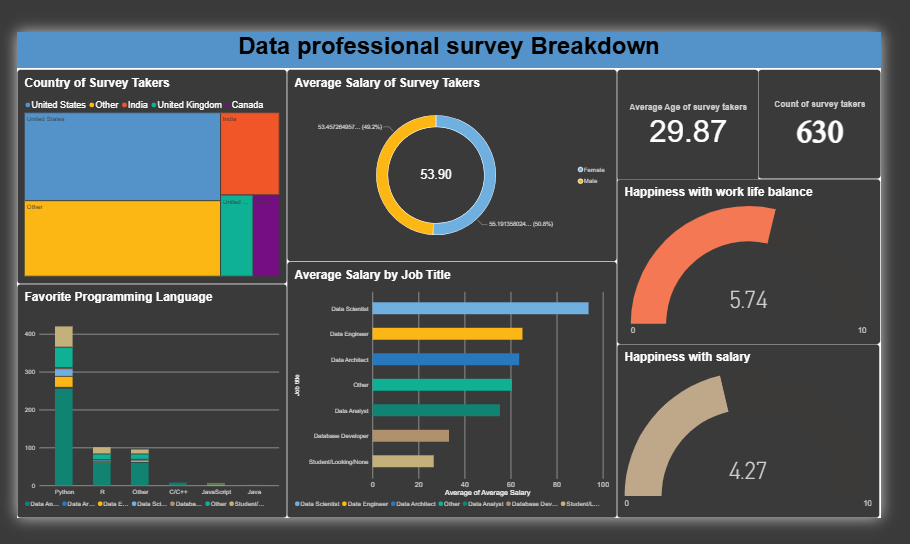

The page's visual inventory and layout, read from the dashboard file:
{"tool":"powerbi","page":{"name":"Page 1","canvas":[1920,1080],"ordinal":0},"visuals":[{"type":"textbox","box":[0,0,1920,80],"z":0},{"type":"cardVisual","fields":{"Data":["CountNonNull(Data Professional Survey.Unique ID)"]},"box":[1646.7,83.3,273.3,243.3],"z":1000},{"type":"cardVisual","fields":{"Data":["Avg(Data Professional Survey.Q10 - Current Age)"]},"box":[1332.5,82.5,315,250],"z":2000},{"type":"barChart","title":"Average Salary by Job Title","fields":{"Category":["Data Professional Survey.Q1 - Which Title Best Fits your Current Role?.1"],"Series":["Data Professional Survey.Q1 - Which Title Best Fits your Current Role?.1"],"Y":["Avg(Data Professional Survey.Average Salary)"]},"box":[600,510,733.3,570],"z":3000},{"type":"columnChart","title":"Favorite Programming Language","fields":{"Category":["Data Professional Survey.Q5 - Favorite Programming Language.1"],"Series":["Data Professional Survey.Q1 - Which Title Best Fits your Current Role?.1"],"Y":["CountNonNull(Data Professional Survey.Unique ID)"]},"box":[0,560,600,520],"z":4000},{"type":"treemap","title":"Country of Survey Takers","fields":{"Group":["Data Professional Survey.Q11 - Which Country do you live in?.1"],"Values":["CountNonNull(Data Professional Survey.Q11 - Which Country do you live in?.1)"]},"box":[0,83.3,600,476.7],"z":5000},{"type":"gauge","title":"Happiness with work life balance","fields":{"MaxValue":["Max(Data Professional Survey.Q6 - How Happy are you in your Current Position with the following? (Work/Life Balance))1"],"MinValue":["Min(Data Professional Survey.Q6 - How Happy are you in your Current Position with the following? (Work/Life Balance))"],"Y":["Avg(Data Professional Survey.Q6 - How Happy are you in your Current Position with the following? (Work/Life Balance))"]},"box":[1332.5,325,585,367.5],"z":6000},{"type":"gauge","title":"Happiness with salary","fields":{"MaxValue":["Max(Data Professional Survey.Q6 - How Happy are you in your Current Position with the following? (Salary))1"],"MinValue":["Min(Data Professional Survey.Q6 - How Happy are you in your Current Position with the following? (Salary))"],"Y":["Avg(Data Professional Survey.Q6 - How Happy are you in your Current Position with the following? (Salary))"]},"box":[1333.3,693.3,583.3,386.7],"z":7000},{"type":"donutChart","title":" Average Salary of Survey Takers","fields":{"Category":["Data Professional Survey.Q9 - Male/Female?"],"Y":["Avg(Data Professional Survey.Average Salary)"]},"box":[600,83.3,733.3,426.7],"z":8000}]}

Visuals, with their boxes in screenshot pixels (x1, y1, x2, y2):
textbox: select_region(14, 31, 880, 67)
cardVisual - CountNonNull(Data Professional Survey.Unique ID): select_region(757, 68, 880, 178)
cardVisual - Avg(Data Professional Survey.Q10 - Current Age): select_region(615, 68, 757, 181)
"Average Salary by Job Title" barChart: select_region(285, 261, 615, 518)
"Favorite Programming Language" columnChart: select_region(14, 283, 285, 518)
"Country of Survey Takers" treemap: select_region(14, 68, 285, 283)
"Happiness with work life balance" gauge: select_region(615, 177, 879, 343)
"Happiness with salary" gauge: select_region(615, 343, 878, 518)
" Average Salary of Survey Takers" donutChart: select_region(285, 68, 615, 261)
